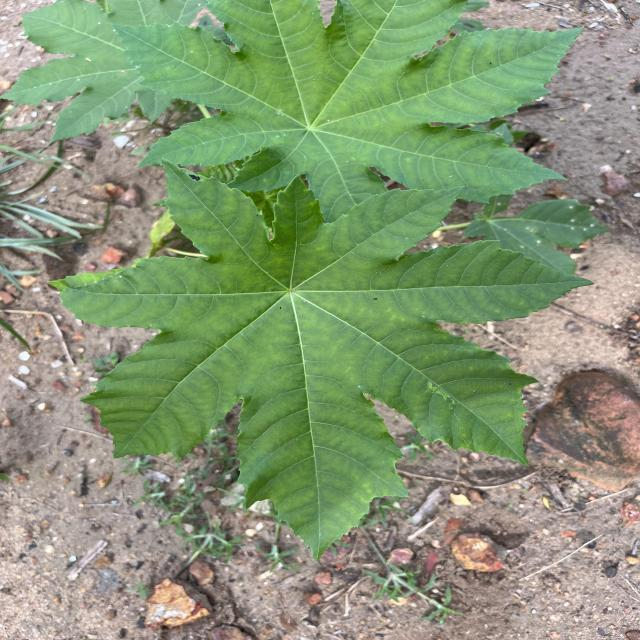Ricinus communis linn: (42, 150, 600, 571), (101, 0, 588, 244)
